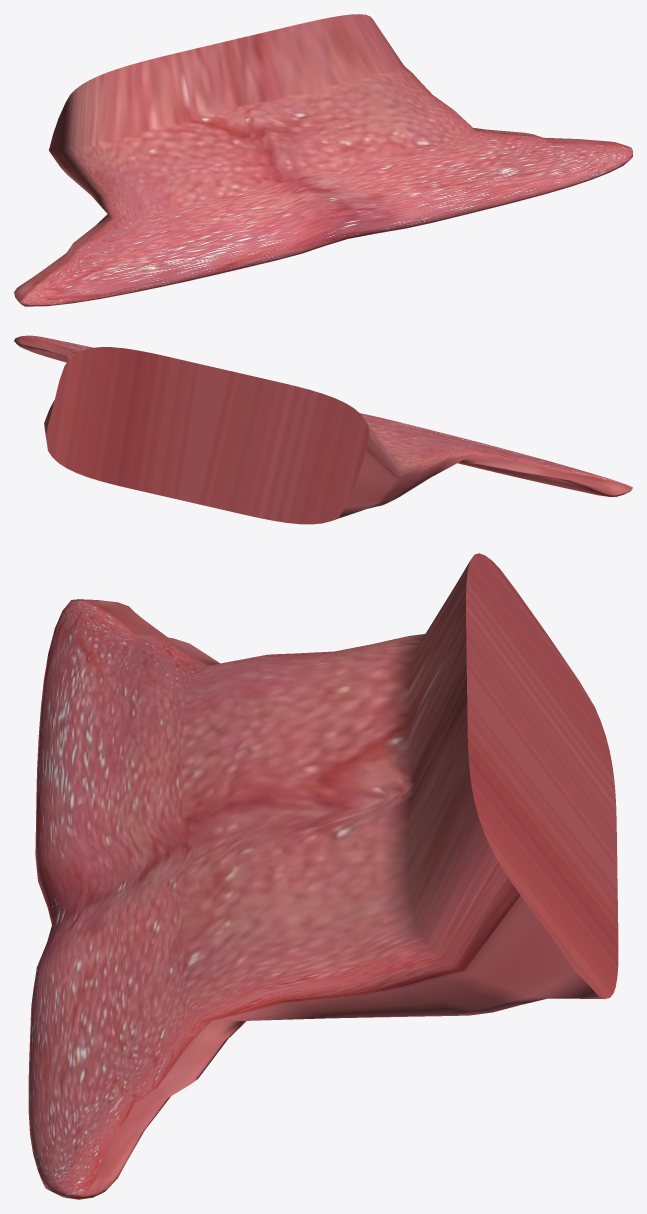
Rendered from Dog_Tongue.fbx.
3 views of the same model, one above another, from view 1: azimuth 30°, elevation 25°; view 2: azimuth 150°, elevation 25°; view 3: azimuth 270°, elevation 25° (orthographic). The views are drawn at different scales.
Parts seen in each view (by area): view 1: jaw_close; view 2: jaw_close; view 3: jaw_close.
Part boxes in pixels (left/top/right/bottom): jaw_close: left=14, top=14, right=632, bottom=306; jaw_close: left=14, top=335, right=632, bottom=524; jaw_close: left=28, top=553, right=618, bottom=1199.
Size of the model in its own units: 0.0325 by 0.00653 by 0.0135.
